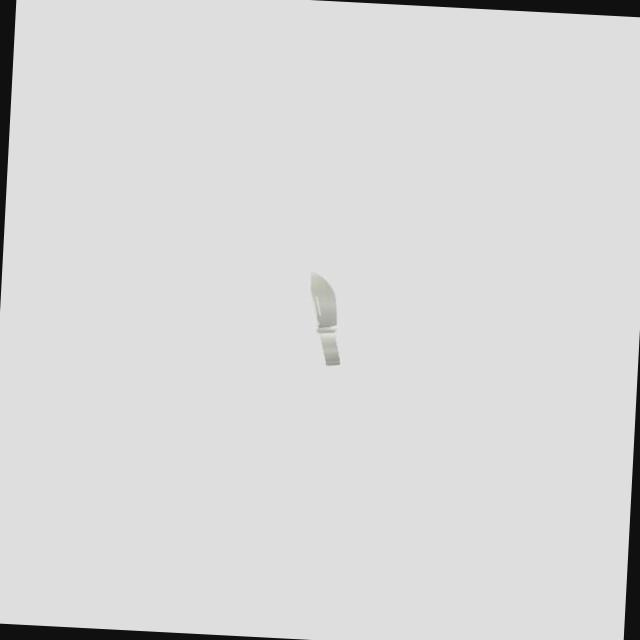knife: (315, 326, 342, 364)
